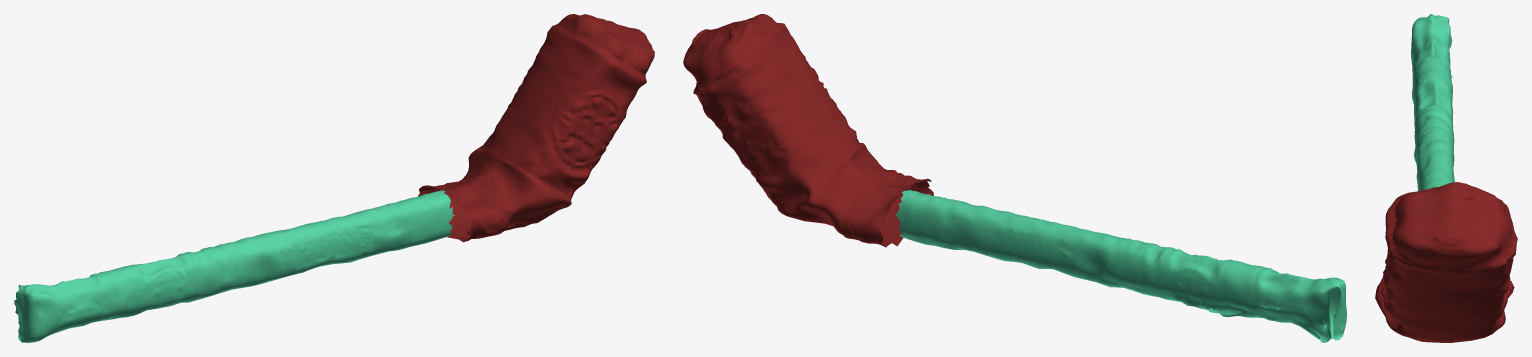
Rendered from object_deformed_9.obj.
3 renders of one model, left to right at view 1: azimuth 30°, elevation 25°; view 2: azimuth 150°, elevation 25°; view 3: azimuth 270°, elevation 25°, orthographic. The views are drawn at different scales.
Bounding box in the file's own units: 0.6065 × 0.1656 × 0.1089.
